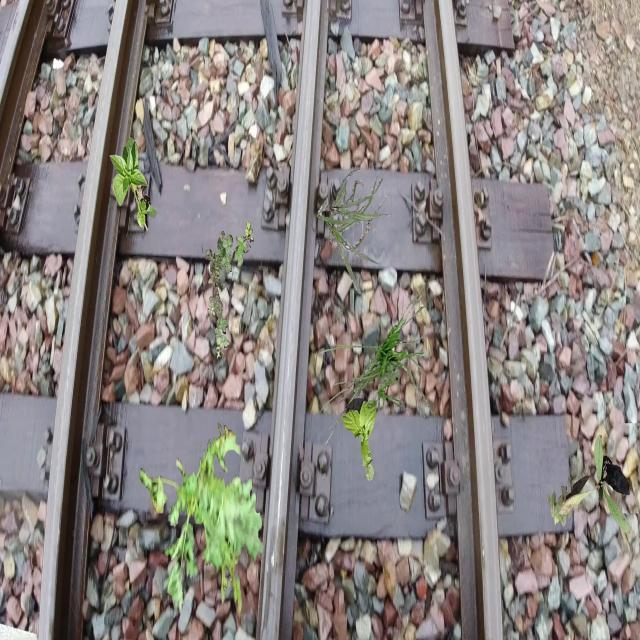Plant: (140, 423, 265, 619), (318, 283, 436, 447), (317, 169, 390, 294), (558, 434, 630, 534), (206, 221, 254, 359), (109, 136, 157, 231), (341, 398, 376, 482), (547, 485, 573, 528)
